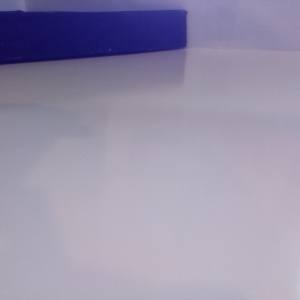zone: (175, 12, 300, 86)
